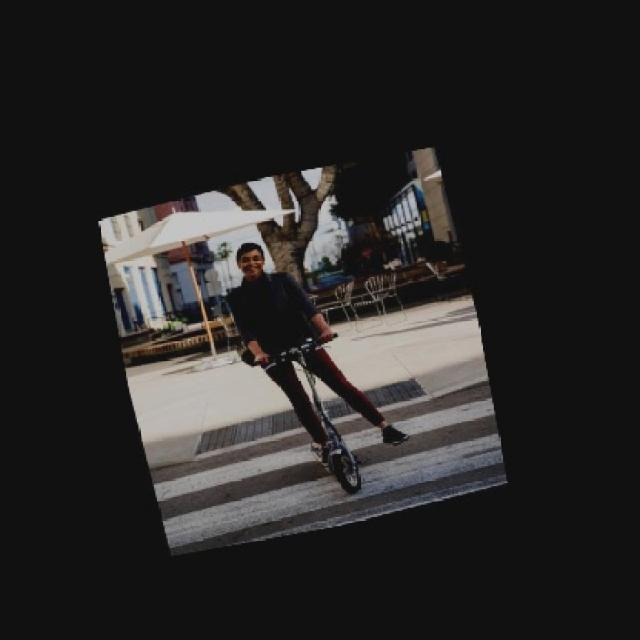bare_head: (224, 239, 270, 276)
human: (221, 238, 399, 442)
kickboard: (301, 442, 389, 509)
